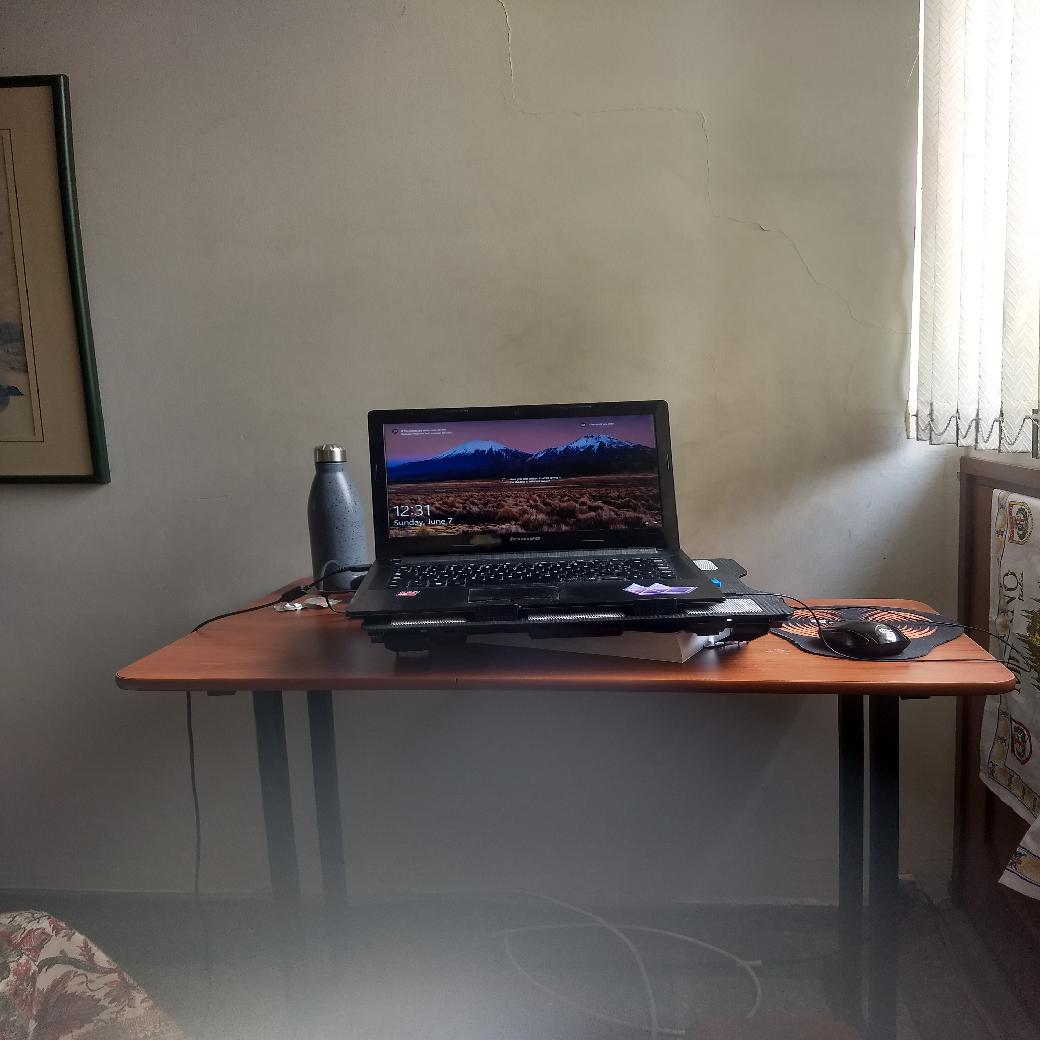laptop: (345, 407, 724, 610)
